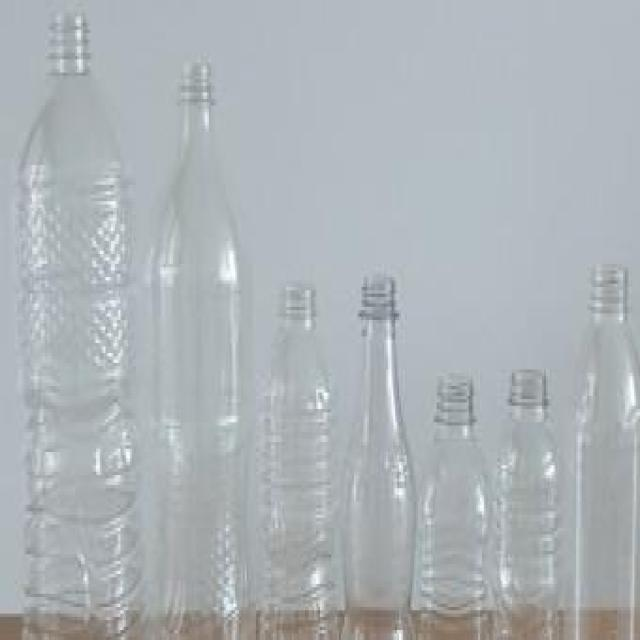bottle: (15, 16, 142, 640), (145, 62, 255, 640), (254, 274, 342, 633), (341, 264, 421, 633), (568, 246, 640, 640), (490, 358, 568, 640), (422, 358, 498, 640)
